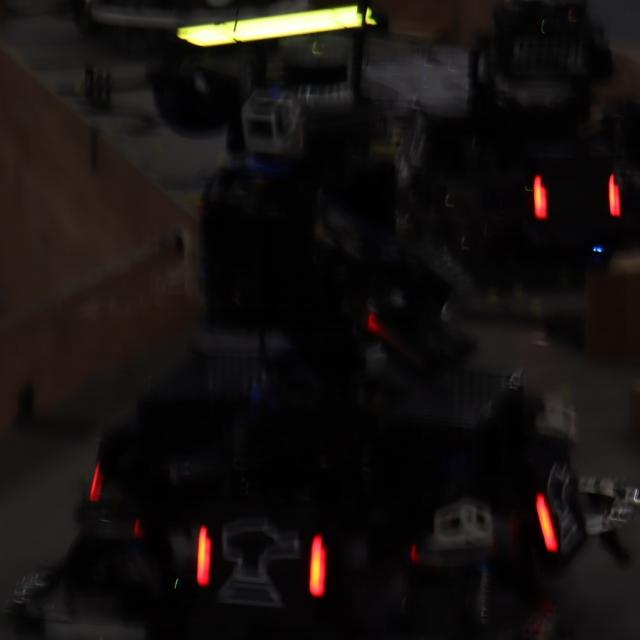Rs: (191, 509, 329, 616), (530, 452, 583, 557)
